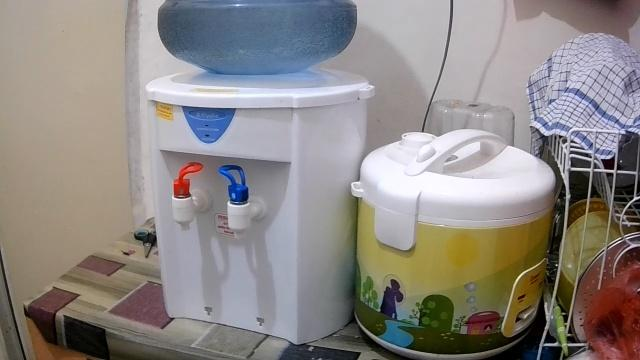Dispenser: (144, 0, 376, 344)
